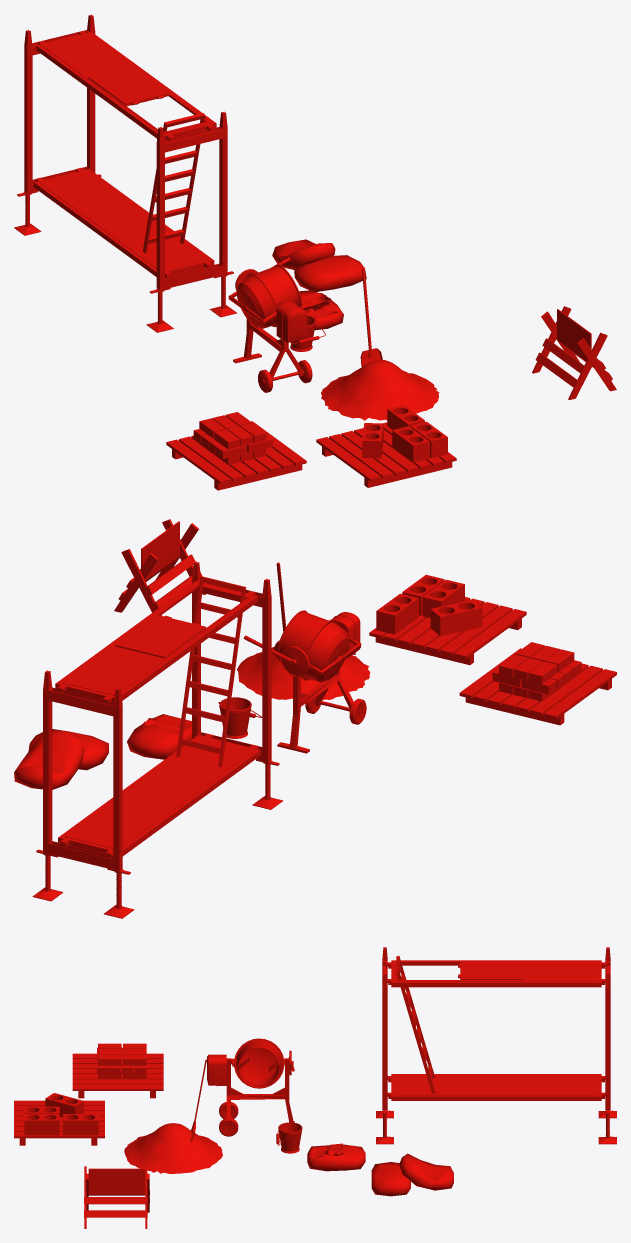
The model's file is conc_setup.fbx.
The picture shows the model from 3 angles, top to bottom: view 1: azimuth 30°, elevation 25°; view 2: azimuth 150°, elevation 25°; view 3: azimuth 270°, elevation 25°; orthographic projection. The views are drawn at different scales.
Visible parts, largest first — view 1: Cube.002, Cube.003, mixer, Sphere, Cube, Cube.013, Cube.004, Cube.012, Cube.031, Plane, Icosphere, Icosphere.002 (+5 smaller); view 2: Cube.002, Cube.003, mixer, Cube.031, Cube.013, Cube.004, Cube.012, Cube, Plane, Sphere, Icosphere.002, Icosphere.001 (+8 smaller); view 3: Cube.002, Cube.003, mixer, Sphere, Cube.012, Cube.004, Cube.013, Icosphere.001, Icosphere.002, Icosphere, Plane, Cube.031 (+5 smaller).
Boxes of the visible parts, x1,y1,x2,y2 form: Cube.002: [33, 168, 214, 278]; Cube.003: [36, 31, 216, 141]; mixer: [228, 257, 312, 392]; Sphere: [321, 360, 439, 420]; Cube: [156, 111, 227, 290]; Cube.013: [316, 422, 456, 487]; Cube.004: [166, 421, 306, 490]; Cube.012: [532, 306, 616, 399]; Cube.031: [24, 14, 95, 193]; Plane: [143, 113, 205, 253]; Icosphere: [294, 255, 366, 291]; Icosphere.002: [272, 239, 335, 269]; Cube.002: [58, 733, 260, 858]; Cube.003: [55, 581, 257, 704]; mixer: [243, 610, 366, 753]; Cube.031: [43, 670, 122, 870]; Cube.013: [369, 597, 526, 665]; Cube.004: [459, 648, 616, 725]; Cube.012: [114, 519, 205, 615]; Cube: [192, 561, 271, 762]; Plane: [176, 576, 246, 767]; Sphere: [237, 646, 370, 700]; Icosphere.002: [14, 731, 84, 789]; Icosphere.001: [127, 714, 191, 759]; Cube.002: [387, 1074, 605, 1100]; Cube.003: [386, 960, 606, 987]; mixer: [206, 1038, 294, 1136]; Sphere: [124, 1123, 222, 1173]; Cube.012: [84, 1166, 149, 1228]; Cube.004: [72, 1053, 163, 1098]; Cube.013: [14, 1100, 104, 1145]; Icosphere.001: [307, 1143, 365, 1171]; Icosphere.002: [399, 1153, 453, 1190]; Icosphere: [371, 1162, 410, 1196]; Plane: [396, 956, 435, 1093]; Cube.031: [605, 947, 610, 1109].
Size of the model in its own units: 643 by 303 by 989.
